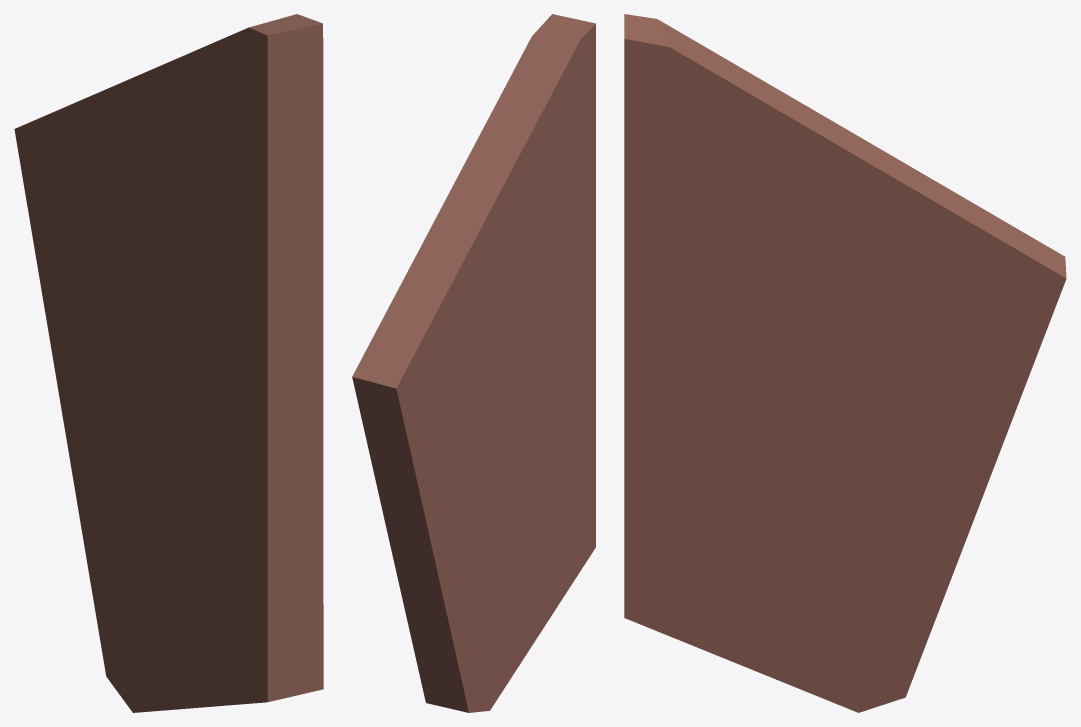
File: T_MurDetruit_6.2.fbx
The picture shows the model from 3 angles, left to right: view 1: azimuth 30°, elevation 25°; view 2: azimuth 150°, elevation 25°; view 3: azimuth 270°, elevation 25°; orthographic projection. The views are drawn at different scales.
Visible parts, largest first — view 1: T_MurDetruit_6.2; view 2: T_MurDetruit_6.2; view 3: T_MurDetruit_6.2.
Part boxes in pixels (left/top/right/bottom): T_MurDetruit_6.2: left=14, top=14, right=323, bottom=712; T_MurDetruit_6.2: left=352, top=14, right=595, bottom=712; T_MurDetruit_6.2: left=624, top=14, right=1066, bottom=712.
Size of the model in its own units: 13.48 by 179 by 106.
